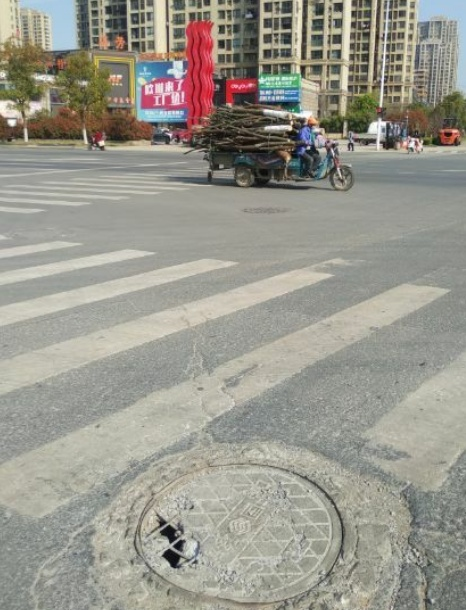broke: (127, 456, 358, 610)
